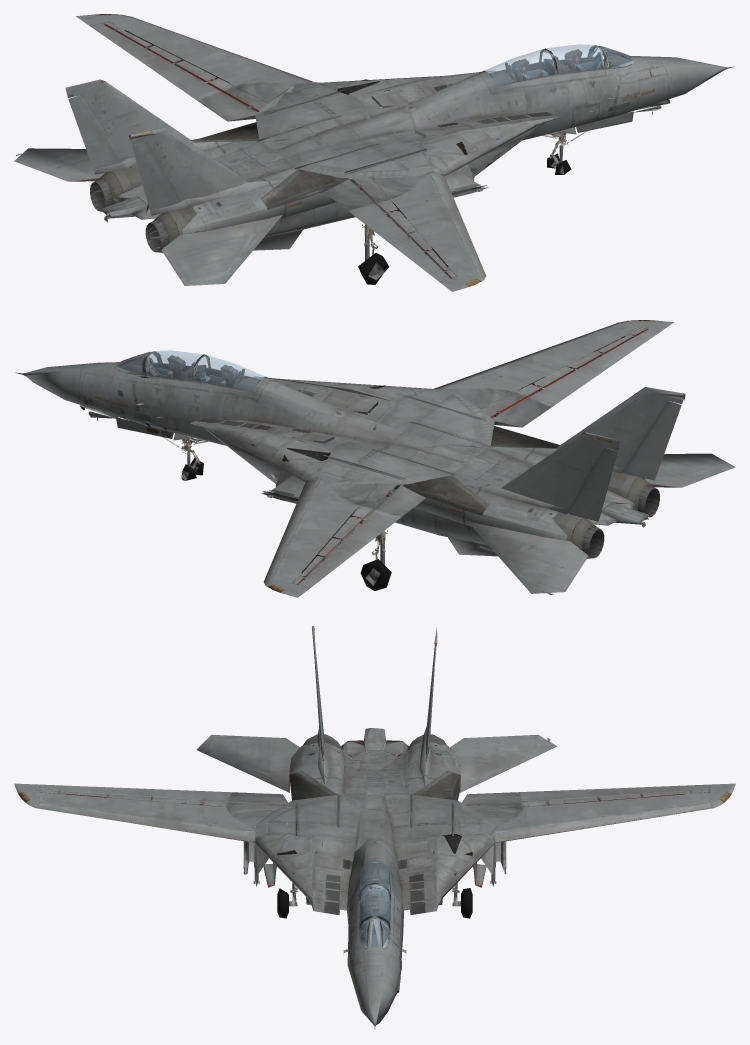
3 renders of one model, top to bottom at view 1: azimuth 30°, elevation 25°; view 2: azimuth 150°, elevation 25°; view 3: azimuth 270°, elevation 25°, orthographic. The views are drawn at different scales.
Visible parts, largest first — view 1: Object_4, Object_6, Object_8; view 2: Object_4, Object_6, Object_8; view 3: Object_4, Object_8, Object_6.
Part boxes in pixels (x1,y1,x2,y2): Object_4: (14, 14, 734, 291); Object_6: (484, 44, 633, 85); Object_8: (483, 45, 632, 85); Object_4: (15, 320, 735, 597); Object_6: (80, 350, 265, 408); Object_8: (117, 351, 266, 391); Object_4: (14, 626, 735, 1029); Object_8: (359, 862, 390, 948); Object_6: (359, 862, 390, 947).
Bounding box in the file's own units: 191 × 55.22 × 195.
Materials: 3 (2 with a texture image).
